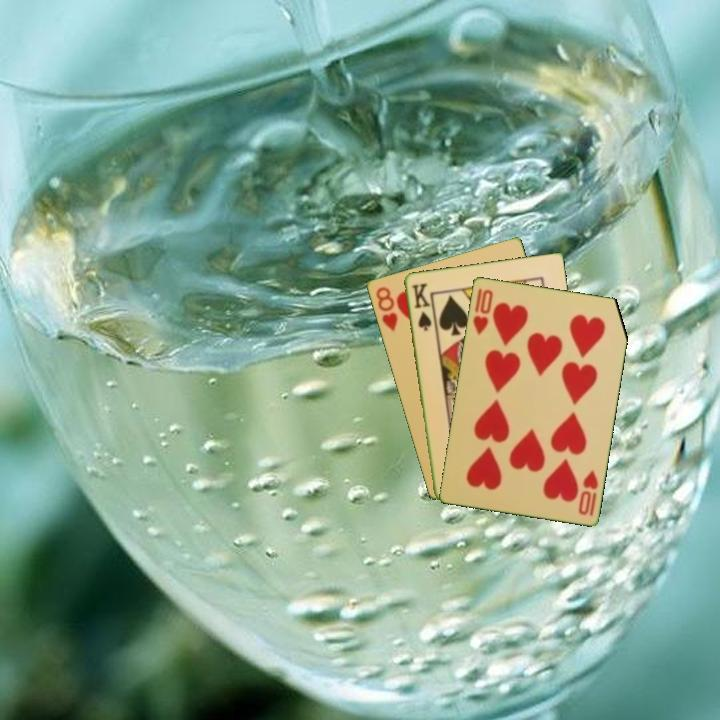10h: (469, 284, 496, 338), (574, 466, 601, 519)
8h: (372, 283, 401, 334)
Ks: (407, 280, 434, 333)
